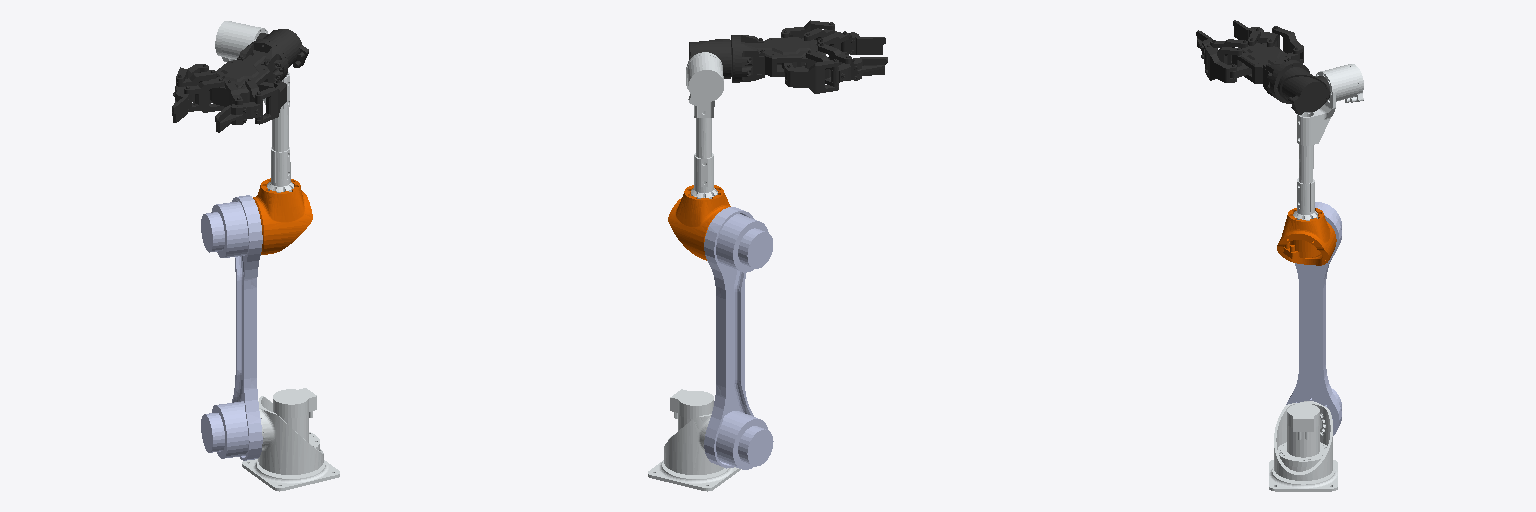
The robot description file, URDF, robot "Rover_Arm":
<?xml version="1.0" encoding="utf-8"?>
<!--
  Rover Arm URDF — UVic Robotics 2026
  Originally exported from SolidWorks via SW2URDF exporter.

  Manual fixes applied:
  - Added world link and world_to_base fixed joint
  - Set <axis xyz="1 0 0"/> on all joints (rotation axis in local joint frame)
  - Set joint limits and effort/velocity values
-->
<robot name="Rover_Arm">

  <!-- Define materials once at the top -->
  <material name="silver">
    <color rgba="0.898 0.918 0.929 1" />
  </material>
  <material name="blue_grey">
    <color rgba="0.792 0.820 0.933 1" />
  </material>
  <material name="orange">
    <color rgba="0.910 0.443 0.031 1" />
  </material>
  <material name="dark_grey">
    <color rgba="0.251 0.251 0.251 1" />
  </material>
  
  <!-- Ensure Base Link loads correctly -->
  <link name="world"/>
  <joint name="world_to_base" type="fixed">
    <parent link="world"/>
    <child link="base_link"/>
    <origin xyz="0 0 0" rpy="0 0 0"/>
  </joint>

  <link name="base_link">
    <inertial>
      <origin
        xyz="0.000912089426587583 0.0508484956657282 3.91930361746801E-16"
        rpy="0 0 0" />
      <mass
        value="2.01423075446435" />
      <inertia
        ixx="0.00162095123596757"
        ixy="3.16191868202788E-06"
        ixz="3.08635636595603E-18"
        iyy="0.00165670509133979"
        iyz="-5.29878797886984E-20"
        izz="0.00166196281192181" />
    </inertial>
    <visual>
      <origin
        xyz="0 0 0"
        rpy="0 0 0" />
      <geometry>
        <mesh filename="package://rover_arm/meshes/base_link.STL" />
      </geometry>
      <material name="silver" /> 
    </visual>
    <collision>
      <origin
        xyz="0 0 0"
        rpy="0 0 0" />
      <geometry>
        <mesh filename="package://rover_arm/meshes/base_link.STL" />
      </geometry>
    </collision>
  </link>


  <link name="turret">
    <inertial>
      <origin
        xyz="0.0410047539276393 0.0173048633261333 -0.00379587456015352"
        rpy="0 0 0" />
      <mass
        value="0.266350669323808" />
      <inertia
        ixx="0.000450831124849188"
        ixy="-9.49660798657449E-05"
        ixz="2.08311953814869E-05"
        iyy="0.000437884738411932"
        iyz="-1.03268486491131E-05"
        izz="0.000393065439217813" />
    </inertial>
    <visual>
      <origin
        xyz="0 0 0"
        rpy="0 0 0" />
      <geometry>
        <mesh filename="package://rover_arm/meshes/Rot_base.STL" />
      </geometry>
      <material name="silver" /> 
    </visual>
    <collision>
      <origin
        xyz="0 0 0"
        rpy="0 0 0" />
      <geometry>
        <mesh filename="package://rover_arm/meshes/Rot_base.STL" />
      </geometry>
    </collision>
  </link>
  <joint
    name="turret_joint"
    type="revolute">
    <origin
      xyz="0 0 0.007"
      rpy="1.5708 -1.5708 0" />
    <parent link="base_link" />
    <child link="turret" />
    <axis xyz="1 0 0" />
    <limit lower="-3.1416" upper="3.1416" effort="10" velocity="1.0" />
  </joint>


  <link name="upper_arm">
    <inertial>
      <origin
        xyz="-0.00963120390908834 -8.04609132619427E-09 -0.160297472582219"
        rpy="0 0 0" />
      <mass
        value="1.17664105126444" />
      <inertia
        ixx="0.0096970538423333"
        ixy="-6.47381347747972E-11"
        ixz="1.19273145527235E-08"
        iyy="0.00938667411029963"
        iyz="2.19883831648442E-09"
        izz="0.000665771761767255" />
    </inertial>
    <visual>
      <origin
        xyz="0 0 0"
        rpy="0 0 0" />
      <geometry>
        <mesh filename="package://rover_arm/meshes/link_1.STL" />
      </geometry>
      <material name="blue_grey" />
    </visual>
    <collision>
      <origin
        xyz="0 0 0"
        rpy="0 0 0" />
      <geometry>
        <mesh filename="package://rover_arm/meshes/link_1.STL" />
      </geometry>
    </collision>
  </link>
  <joint
    name="shoulder_joint"
    type="revolute">
    <origin
      xyz="0.0705 0.066421 -0.014571"
      rpy="1.5708 -0.21595 -1.5708" />
    <parent link="turret" />
    <child link="upper_arm" />
    <axis xyz="1 0 0" />
    <limit lower="-1.5708" upper="1.5708" effort="10" velocity="1.0" />
  </joint>


  <link name="forearm">
    <inertial>
      <origin
        xyz="0.0440605492670829 0.000447759552270756 -0.0211514340640124"
        rpy="0 0 0" />
      <mass
        value="1.19092211150625" />
      <inertia
        ixx="0.000576305054119571"
        ixy="-1.03848516030153E-05"
        ixz="4.74867876785011E-05"
        iyy="0.00054125812954335"
        iyz="1.61018288279126E-06"
        izz="0.000582168162384795" />
    </inertial>
    <visual>
      <origin
        xyz="0 0 0"
        rpy="0 0 0" />
      <geometry>
        <mesh filename="package://rover_arm/meshes/link_2.STL" />
      </geometry>
      <material name="orange" />
    </visual>
    <collision>
      <origin
        xyz="0 0 0"
        rpy="0 0 0" />
      <geometry>
        <mesh filename="package://rover_arm/meshes/link_2.STL" />
      </geometry>
    </collision>
  </link>
  <joint
    name="elbow_joint"
    type="revolute">
    <origin
      xyz="0.007 0 -0.3206"
      rpy="0 0 0" />
    <parent link="upper_arm" />
    <child link="forearm" />
    <axis xyz="1 0 0" />
    <limit lower="-1.5708" upper="1.5708" effort="10" velocity="1.0" />
  </joint>


  <link
    name="wrist">
    <inertial>
      <origin
        xyz="-0.207236849076382 -0.0307266470363196 -0.0485642422686654"
        rpy="0 0 0" />
      <mass
        value="1.17148580234296" />
      <inertia
        ixx="0.00038109399371801"
        ixy="-2.30916267860668E-05"
        ixz="-2.19619017838529E-05"
        iyy="0.000511536223999207"
        iyz="4.86627127602619E-06"
        izz="0.000518019121252321" />
    </inertial>
    <visual>
      <origin
        xyz="0 0 0"
        rpy="0 0 0" />
      <geometry>
        <mesh filename="package://rover_arm/meshes/Link_3.STL" />
      </geometry>
      <material name="silver" />
    </visual>
    <collision>
      <origin
        xyz="0 0 0"
        rpy="0 0 0" />
      <geometry>
        <mesh filename="package://rover_arm/meshes/Link_3.STL" />
      </geometry>
    </collision>
  </link>
  <joint
    name="wrist_pitch_joint"
    type="revolute">
    <origin
      xyz="0.045 -0.00026286 -0.054499"
      rpy="2.9256 -1.566 1.5708" />
    <parent link="forearm" />
    <child link="wrist" />
    <axis xyz="1 0 0" />
    <limit lower="-3.1416" upper="3.1416" effort="10" velocity="1.0" />
  </joint>


  <link name="hand">
    <inertial>
      <origin
        xyz="-0.0331027805567119 -0.0084491238454061 0.000358215250377603"
        rpy="0 0 0" />
      <mass
        value="1.07420417469454" />
      <inertia
        ixx="0.000370038411474129"
        ixy="-1.30681604361726E-05"
        ixz="7.54293526547091E-06"
        iyy="0.00040250866371949"
        iyz="6.86484393222107E-07"
        izz="0.000382733996464899" />
    </inertial>
    <visual>
      <origin
        xyz="0 0 0"
        rpy="0 0 0" />
      <geometry>
        <mesh filename="package://rover_arm/meshes/Link_4.STL" />
      </geometry>
      <material name="dark_grey" />
    </visual>
    <collision>
      <origin
        xyz="0 0 0"
        rpy="0 0 0" />
      <geometry>
        <mesh filename="package://rover_arm/meshes/Link_4.STL" />
      </geometry>
    </collision>
  </link>
  <joint
    name="wrist_roll_joint"
    type="revolute">
    <origin
      xyz="-0.221 -0.017793 -0.027793"
      rpy="-1.5708 1.0013 -1.5708" />
    <parent link="wrist" />
    <child link="hand" />
    <axis xyz="1 0 0" />
    <limit lower="-1.5708" upper="1.5708" effort="10" velocity="1.0" />
  </joint>


  <link name="end_effector">
    <inertial>
      <origin
        xyz="-0.0922610708246211 0.000157474196861629 -5.12065819328177E-05"
        rpy="0 0 0" />
      <mass
        value="0.564191778913126" />
      <inertia
        ixx="0.00020367288080541"
        ixy="5.00199268323845E-06"
        ixz="1.64412556928948E-08"
        iyy="0.000410307679525273"
        iyz="-3.6650458101903E-08"
        izz="0.00036920922712019" />
    </inertial>
    <visual>
      <origin
        xyz="0 0 0"
        rpy="0 0 0" />
      <geometry>
        <mesh filename="package://rover_arm/meshes/Link_5.STL" />
      </geometry>
      <material name="dark_grey" />
    </visual>
    <collision>
      <origin
        xyz="0 0 0"
        rpy="0 0 0" />
      <geometry>
        <mesh filename="package://rover_arm/meshes/Link_5.STL" />
      </geometry>
    </collision>
  </link>
  <joint
    name="hand_joint"
    type="revolute">
    <origin
      xyz="-0.033 -0.0395 0.00013472"
      rpy="-1.5674 0.0034105 1.5708" />
    <parent link="hand" />
    <child link="end_effector" />
    <axis xyz="1 0 0" />
    <limit lower="-3.1416" upper="3.1416" effort="10" velocity="1.0" />
  </joint>
</robot>

--- Render facts (derived) ---
Views: 3 orthographic renders of the robot side by side, from view 1: azimuth 30°, elevation 25°; view 2: azimuth 150°, elevation 25°; view 3: azimuth 270°, elevation 25°.
Model Rover_Arm with 8 links and 7 joints (6 revolute, 1 fixed), rooted at world, posed all joints at 0.
Links seen in each view (by area): view 1: upper_arm, end_effector, base_link, wrist, turret, forearm, hand; view 2: upper_arm, end_effector, wrist, base_link, forearm, turret, hand; view 3: upper_arm, end_effector, wrist, base_link, forearm, turret, hand.
Boxes of the visible links, bbox=[...] form: upper_arm: bbox=[201, 195, 262, 460]; end_effector: bbox=[172, 39, 288, 132]; base_link: bbox=[242, 388, 339, 491]; wrist: bbox=[215, 21, 293, 192]; turret: bbox=[258, 396, 323, 474]; forearm: bbox=[253, 178, 312, 254]; hand: bbox=[256, 29, 308, 67]; upper_arm: bbox=[704, 207, 773, 469]; end_effector: bbox=[731, 20, 887, 93]; wrist: bbox=[686, 52, 723, 198]; base_link: bbox=[648, 389, 740, 491]; forearm: bbox=[668, 185, 730, 260]; turret: bbox=[664, 414, 723, 474]; hand: bbox=[689, 39, 731, 78]; upper_arm: bbox=[1286, 202, 1341, 435]; end_effector: bbox=[1196, 20, 1309, 103]; wrist: bbox=[1293, 64, 1363, 220]; base_link: bbox=[1269, 403, 1337, 491]; forearm: bbox=[1277, 208, 1336, 265]; turret: bbox=[1274, 401, 1332, 480]; hand: bbox=[1278, 67, 1330, 114].
Size in the robot's own frame: 0.3181 by 0.2695 by 0.7086 metres.
7 mesh visuals loaded from 7 distinct referenced files (7 binary STL).
